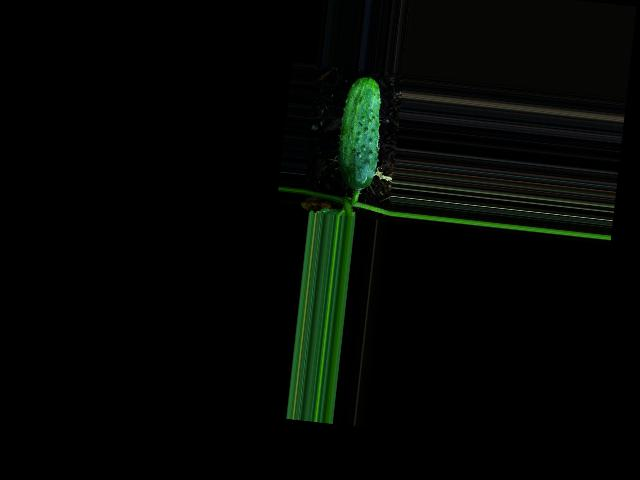cucumber: (333, 73, 386, 191)
